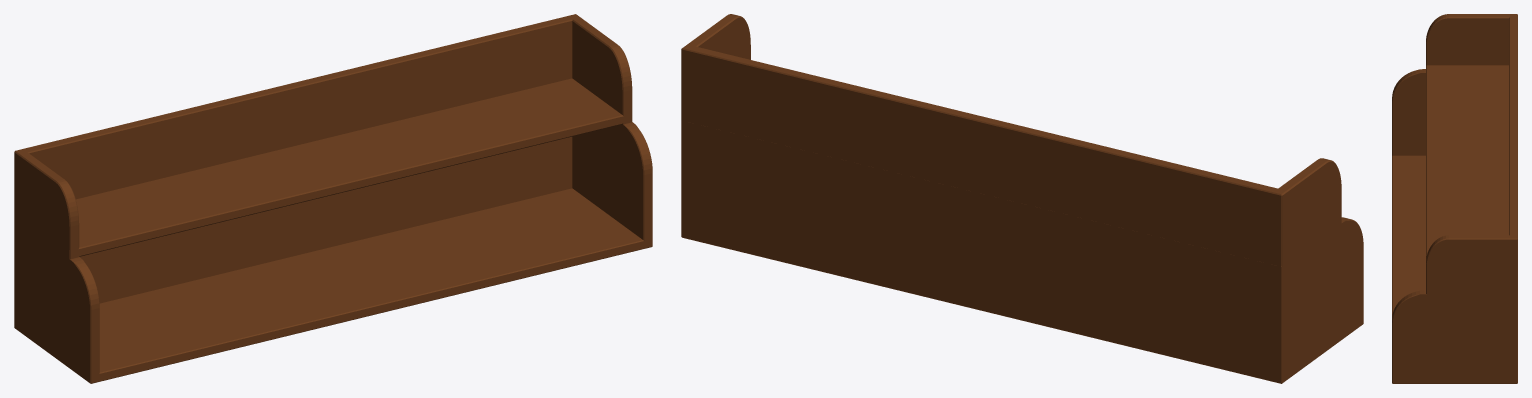
File: Shelves_on_table.fbx
The picture shows the model from 3 angles, left to right: view 1: azimuth 30°, elevation 25°; view 2: azimuth 150°, elevation 25°; view 3: azimuth 270°, elevation 25°; orthographic projection. The views are drawn at different scales.
Visible parts, largest first — view 1: Shelves_on_table; view 2: Shelves_on_table; view 3: Shelves_on_table.
Part boxes in pixels (x1=…): Shelves_on_table: x1=14, y1=14, x2=652, y2=383; Shelves_on_table: x1=681, y1=14, x2=1363, y2=383; Shelves_on_table: x1=1392, y1=14, x2=1517, y2=383.
Size of the model in its own units: 94.26 by 28.42 by 22.28.
